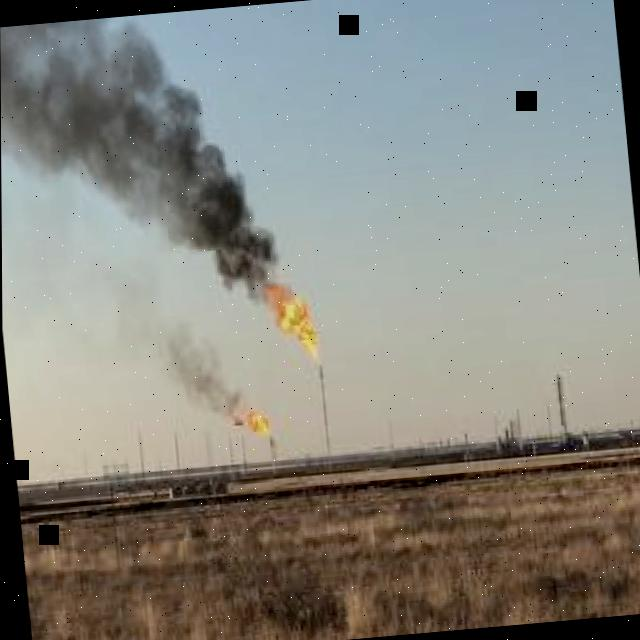fire: (265, 281, 318, 369), (244, 408, 273, 435)
smoke: (0, 16, 281, 317), (111, 259, 241, 417)
